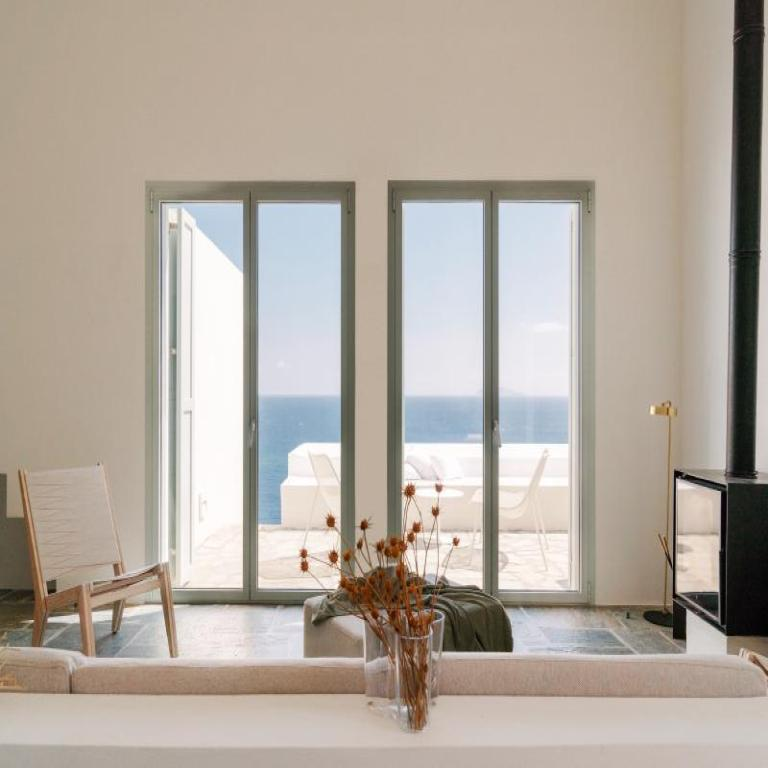white-walls: (40, 25, 652, 170)
